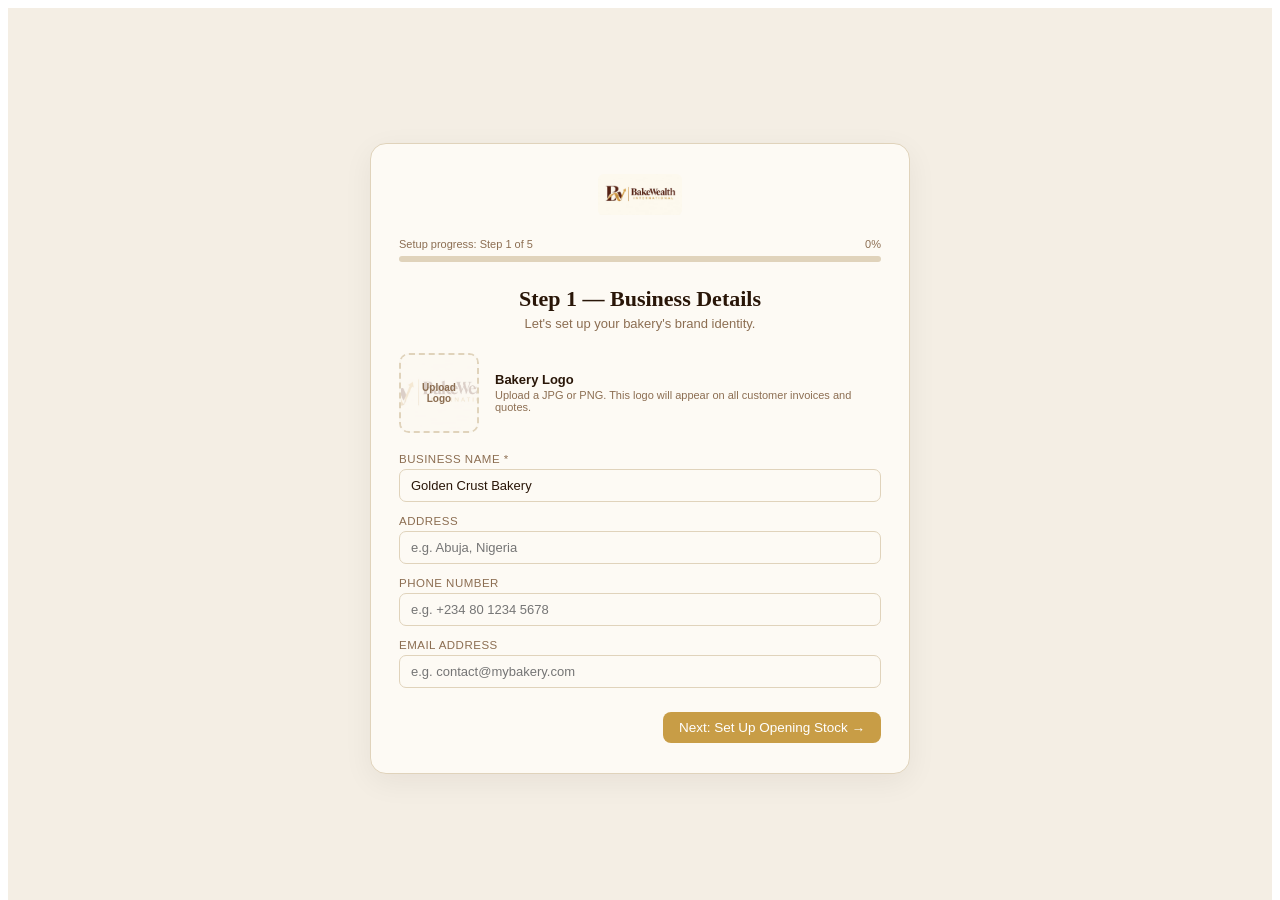
Test case: Onboarding AI PDF & Photo Scanning › Step 2 import modal displays Option A for AI PDF/Photo scan and Option B for Excel paste
What coordinates should you click on to do the following:
click the button "Next: Set Up Opening Stock →"
I would click on:
 (772, 727)
Its box is [663,712,881,742].
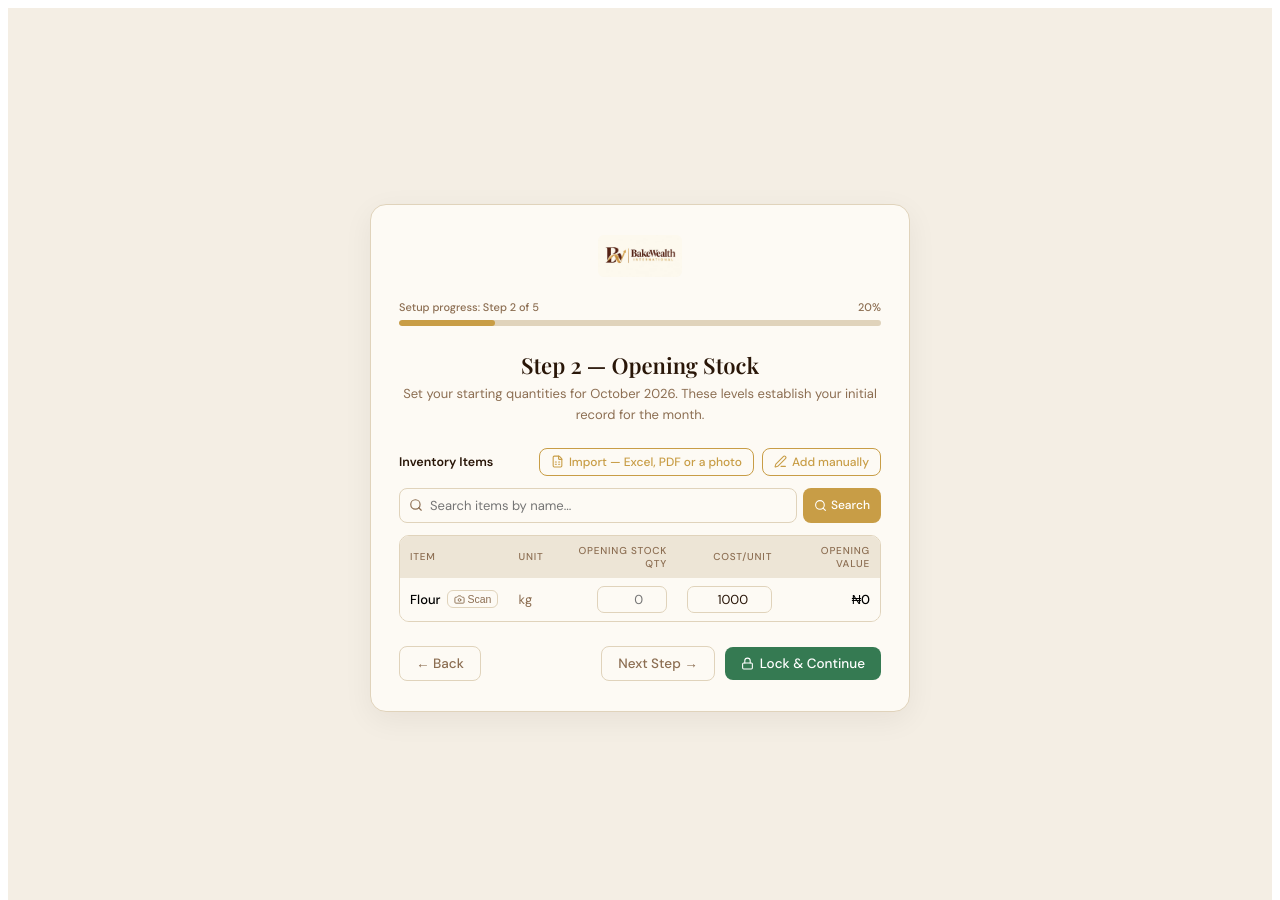
What coordinates should you click on to do the following:
click the button "Import — Excel, PDF or a photo"
I would click on:
 (646, 462)
Its box is [539,448,754,476].
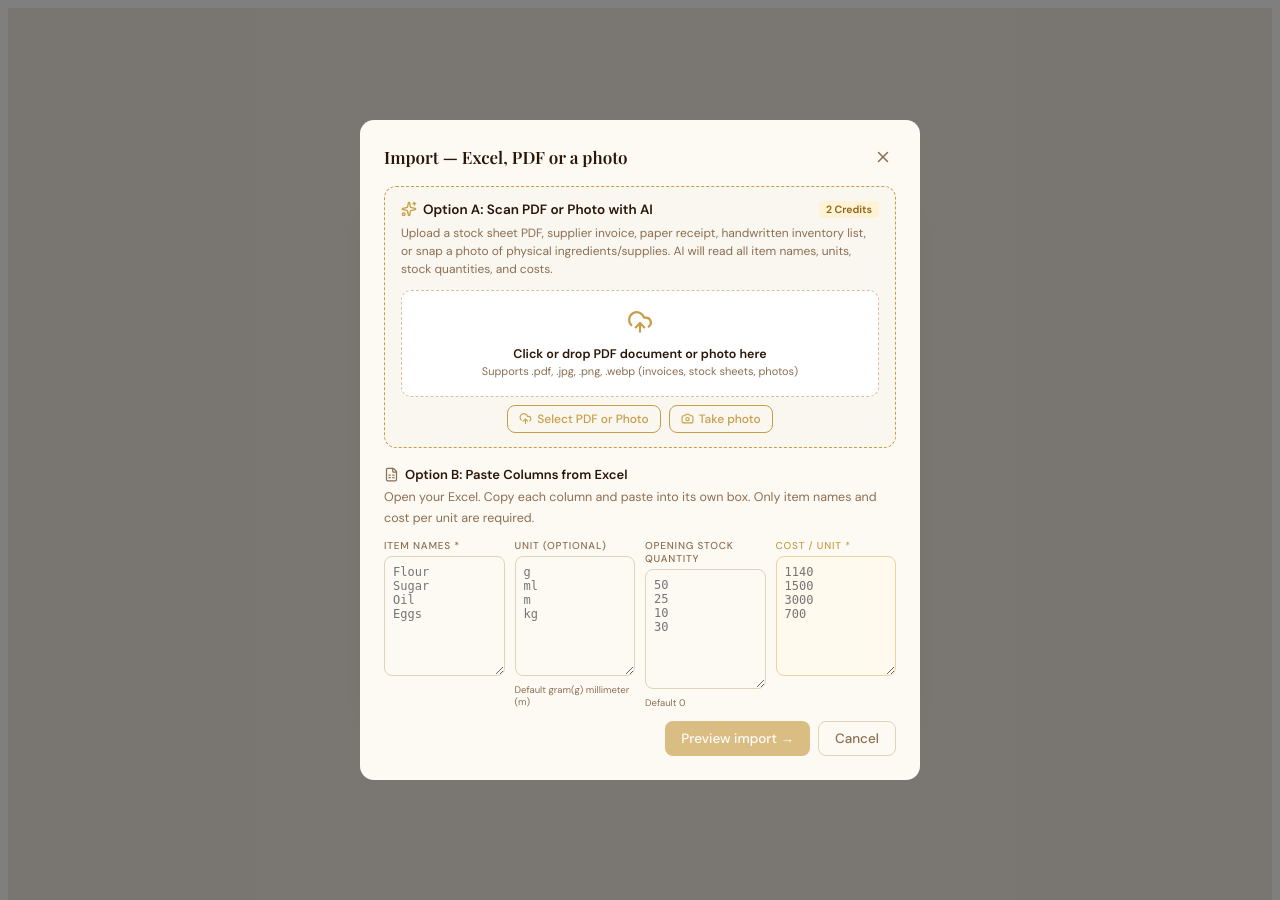
expect the text "Option A: Scan PDF or Photo with AI" is shown: met, box [423,201,653,218]
expect the text "Option B: Paste Columns from Excel" is shown: met, box [405,466,628,483]
expect the text "Click or drop PDF document or photo here" is shown: met, box [513,346,767,362]
